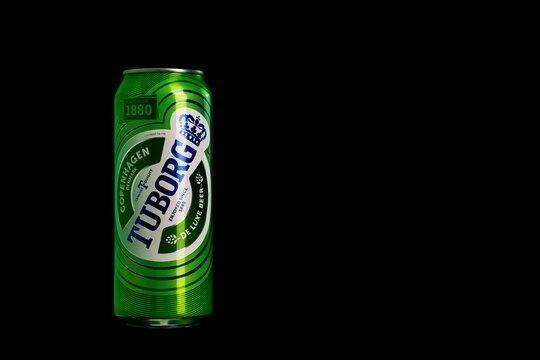tin can: (112, 65, 216, 331)
